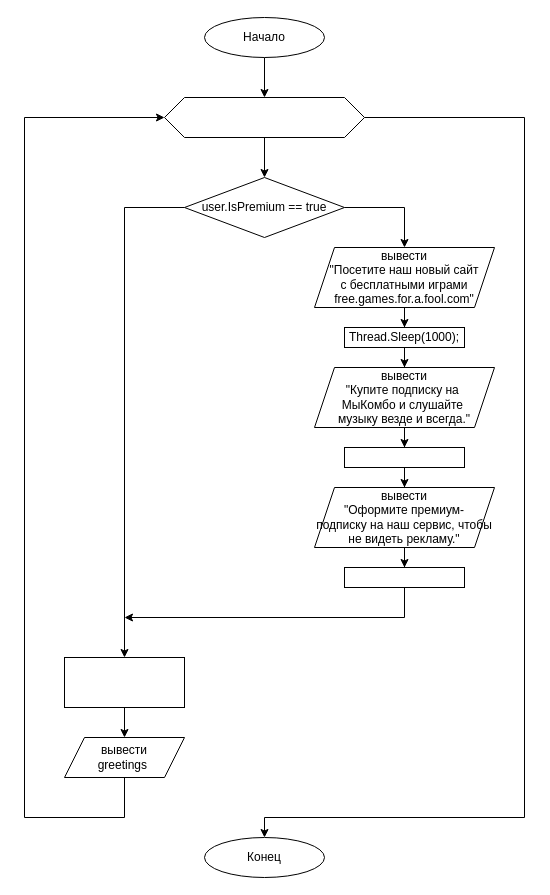
The diagram is 550 pixels wide and 895 high, and some of its shapes have lost their labels. The centre of each missing label's shape, as x and y in pixels:
for i=0; i < users.Length; i++: pixel 264 117
greetings = "Привет, " + user.Name;: pixel 124 682
Thread.Sleep(2000);: pixel 404 457
Thread.Sleep(3000);: pixel 404 577
